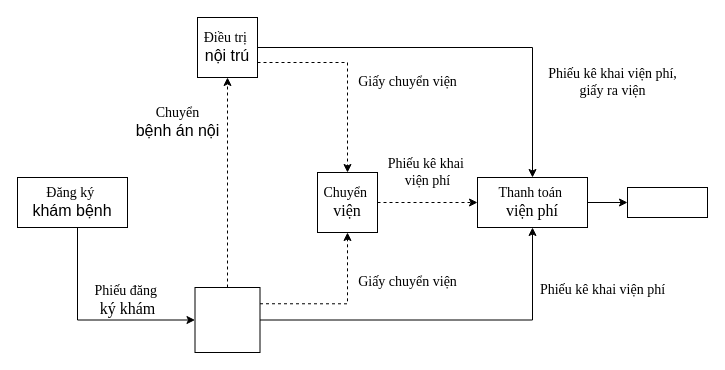
This 725x370 diagram has some shape labels left out. Here are the shapes that lost their labels. From the top down, the box of each, then its label:
(626, 186, 708, 218): Xuất viện
(194, 286, 260, 352): Khám và điều trị ngoại trú
